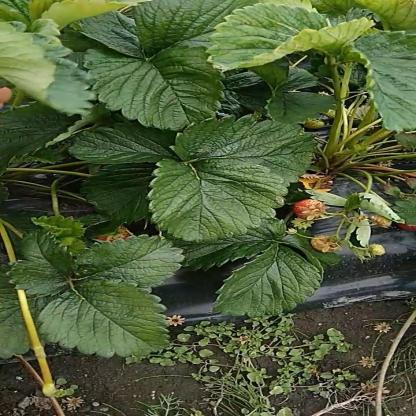ripe: (94, 223, 136, 245), (290, 198, 326, 219), (395, 212, 416, 233)
unripe: (298, 115, 332, 134), (311, 234, 340, 252), (370, 244, 388, 257)
